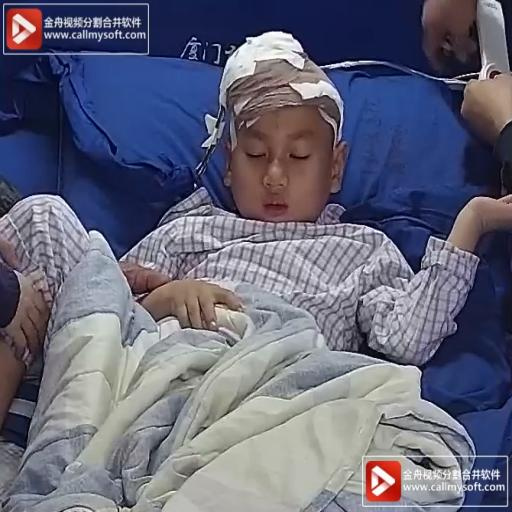Seizure: (203, 38, 353, 221)
